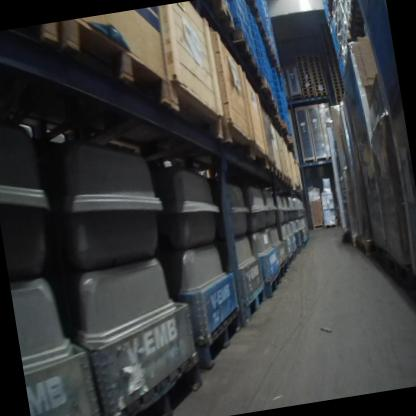pallet: (56, 6, 171, 119), (97, 347, 209, 416), (194, 305, 248, 370), (234, 279, 270, 324), (10, 21, 60, 49), (227, 26, 254, 70), (208, 0, 234, 33), (261, 268, 284, 299), (358, 236, 376, 255), (252, 56, 263, 84), (260, 34, 274, 56), (255, 16, 267, 38), (347, 0, 362, 16), (278, 258, 289, 277), (267, 156, 276, 175), (273, 111, 282, 128), (275, 166, 284, 182), (281, 120, 289, 135), (271, 99, 279, 113), (314, 90, 328, 97), (325, 12, 332, 26), (324, 221, 336, 229), (291, 247, 299, 259), (286, 254, 294, 266), (282, 172, 289, 185), (313, 80, 325, 87), (295, 57, 308, 63), (309, 64, 322, 70), (310, 70, 323, 76), (313, 84, 326, 90), (314, 87, 327, 93), (302, 89, 314, 95), (303, 93, 315, 99), (301, 83, 313, 89), (300, 80, 312, 86), (299, 73, 311, 79), (298, 70, 310, 76), (297, 63, 309, 69), (296, 60, 308, 66), (295, 54, 307, 60), (307, 53, 319, 59), (308, 56, 320, 62), (312, 77, 324, 83), (287, 135, 293, 146), (330, 73, 341, 79), (329, 69, 340, 75), (329, 66, 340, 72), (327, 59, 338, 65), (301, 87, 314, 92), (309, 67, 322, 72), (311, 74, 324, 79), (299, 77, 311, 82), (297, 66, 309, 71), (308, 61, 320, 66), (332, 84, 344, 89), (332, 79, 342, 85), (328, 62, 338, 68), (336, 52, 341, 63), (326, 56, 337, 61), (326, 53, 337, 58), (334, 90, 344, 95), (331, 77, 341, 82), (335, 93, 344, 98), (334, 87, 344, 91), (335, 97, 342, 102), (335, 101, 340, 105)
small_load_carrier: (228, 0, 245, 38)
